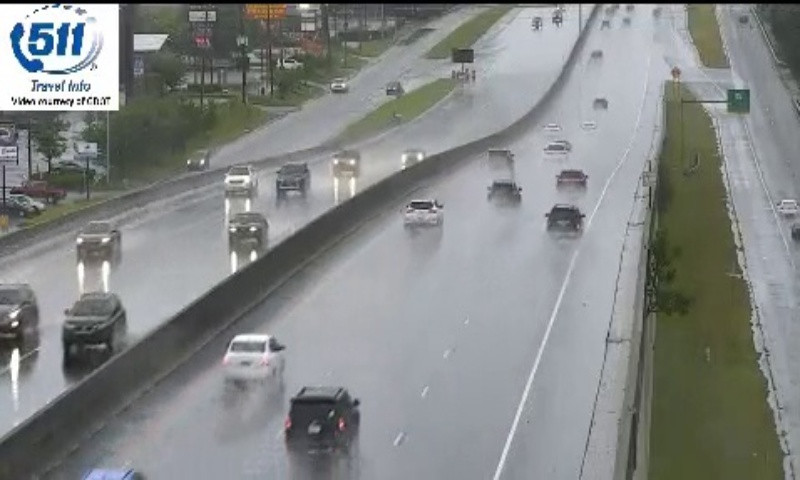car: (286, 386, 359, 453), (220, 333, 281, 382), (403, 198, 441, 228), (547, 205, 581, 234), (487, 181, 520, 206), (556, 169, 586, 196)
